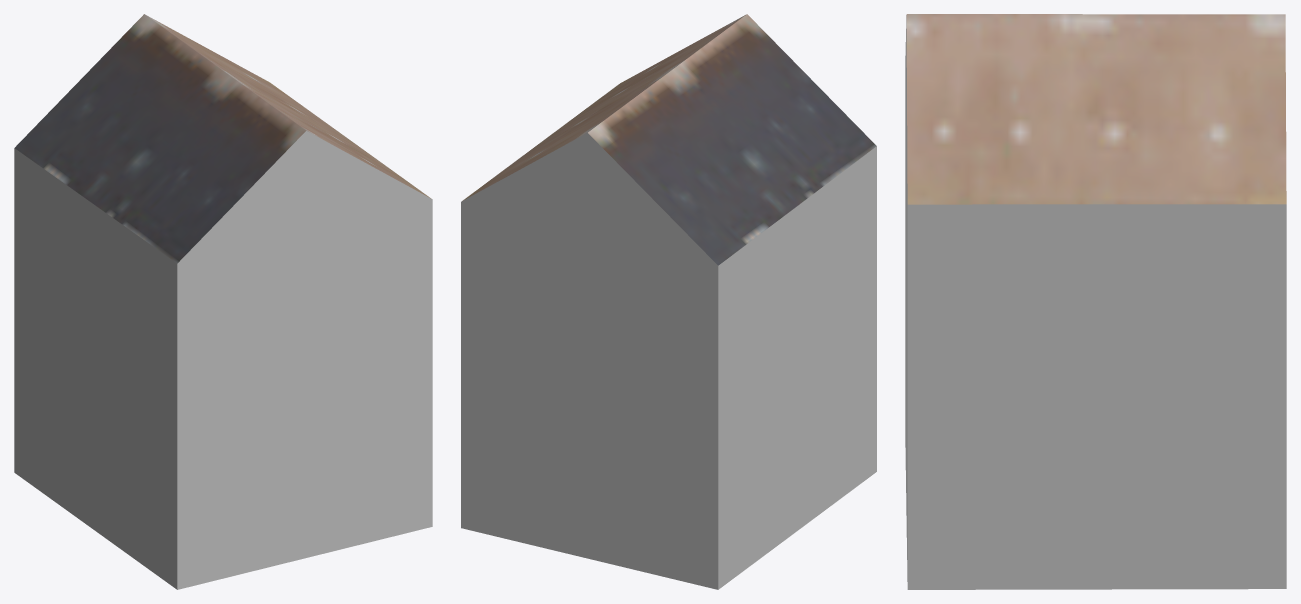
The model's file is DEBW_0010007Txie.gltf.
The picture shows the model from 3 angles, left to right: view 1: azimuth 30°, elevation 25°; view 2: azimuth 150°, elevation 25°; view 3: azimuth 270°, elevation 25°; orthographic projection. The views are drawn at different scales.
Visible parts, largest first — view 1: Z_UP; view 2: Z_UP; view 3: Z_UP.
Boxes of the visible parts, left/top/right/bottom form: Z_UP: left=14, top=14, right=432, bottom=589; Z_UP: left=461, top=14, right=876, bottom=589; Z_UP: left=905, top=14, right=1286, bottom=589.
Size of the model in its own units: 11.2 by 17.71 by 12.16.
2 materials, 1 textured.
